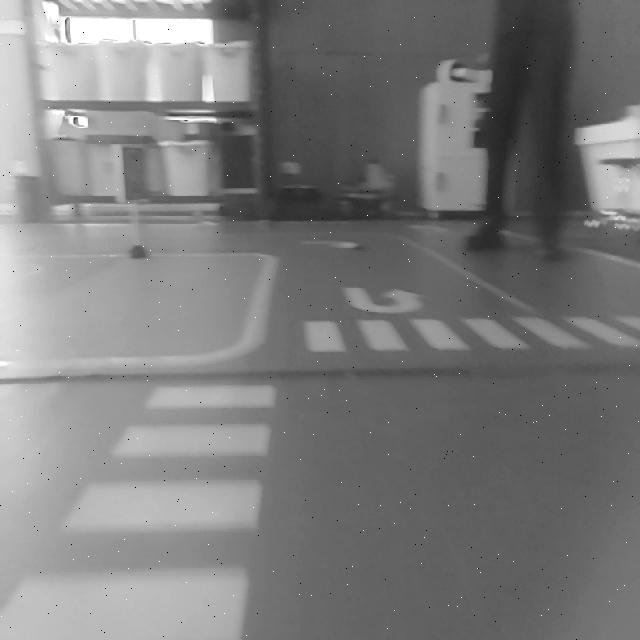left_lane: (244, 259, 277, 349)
right_lane: (403, 237, 534, 312)
